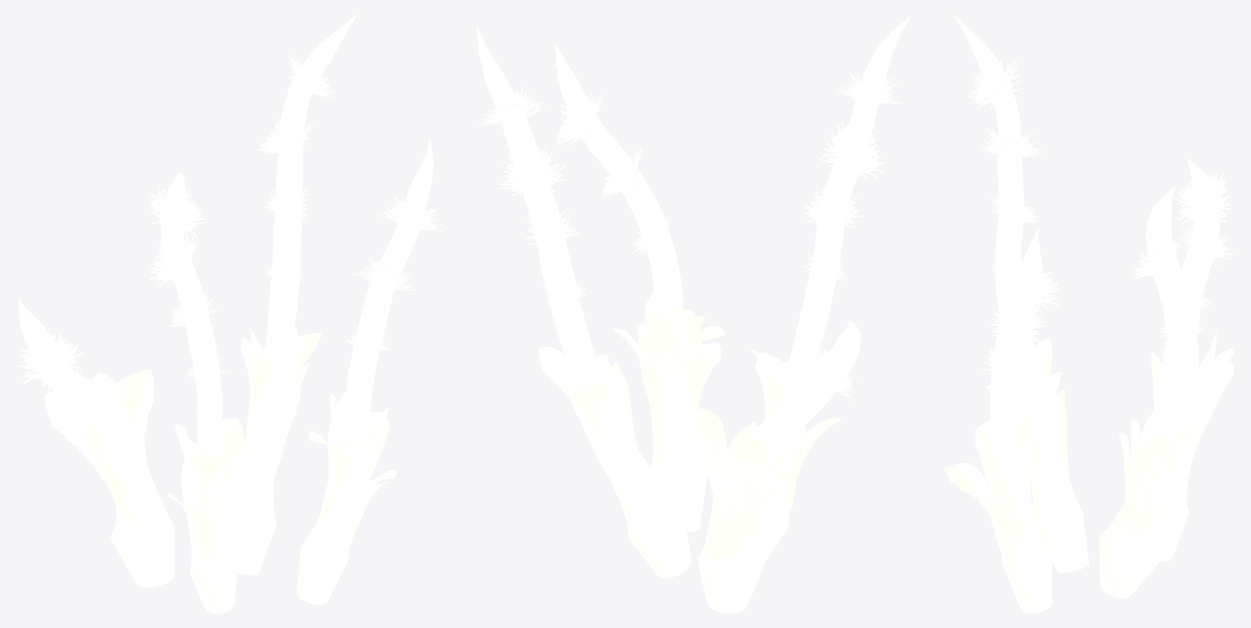
3 renders of one model, left to right at view 1: azimuth 30°, elevation 25°; view 2: azimuth 150°, elevation 25°; view 3: azimuth 270°, elevation 25°, orthographic. The views are drawn at different scales.
Visible parts, largest first — view 1: SM_HorseHair_03_LOD0; view 2: SM_HorseHair_03_LOD0; view 3: SM_HorseHair_03_LOD0.
Part boxes in pixels (x1=…): SM_HorseHair_03_LOD0: x1=17, y1=14, x2=443, y2=613; SM_HorseHair_03_LOD0: x1=476, y1=14, x2=912, y2=613; SM_HorseHair_03_LOD0: x1=944, y1=14, x2=1234, y2=613.
Bounding box in the file's own units: 0.8962 × 1.22 × 0.6394.
1 material, 1 textured.
